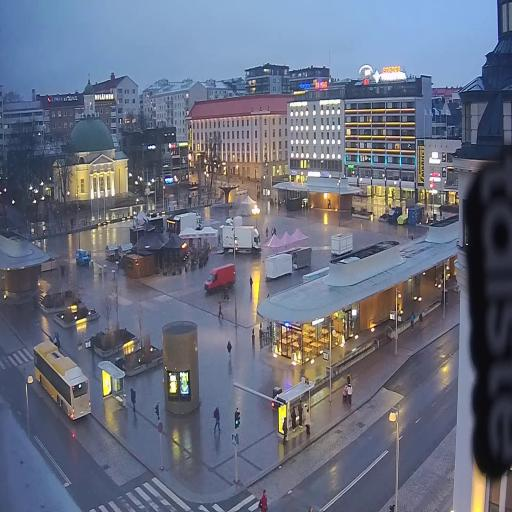bus: (32, 332, 95, 428)
delivery: (221, 225, 264, 261), (204, 261, 238, 295), (171, 206, 204, 241), (224, 208, 244, 235), (74, 244, 92, 270)
